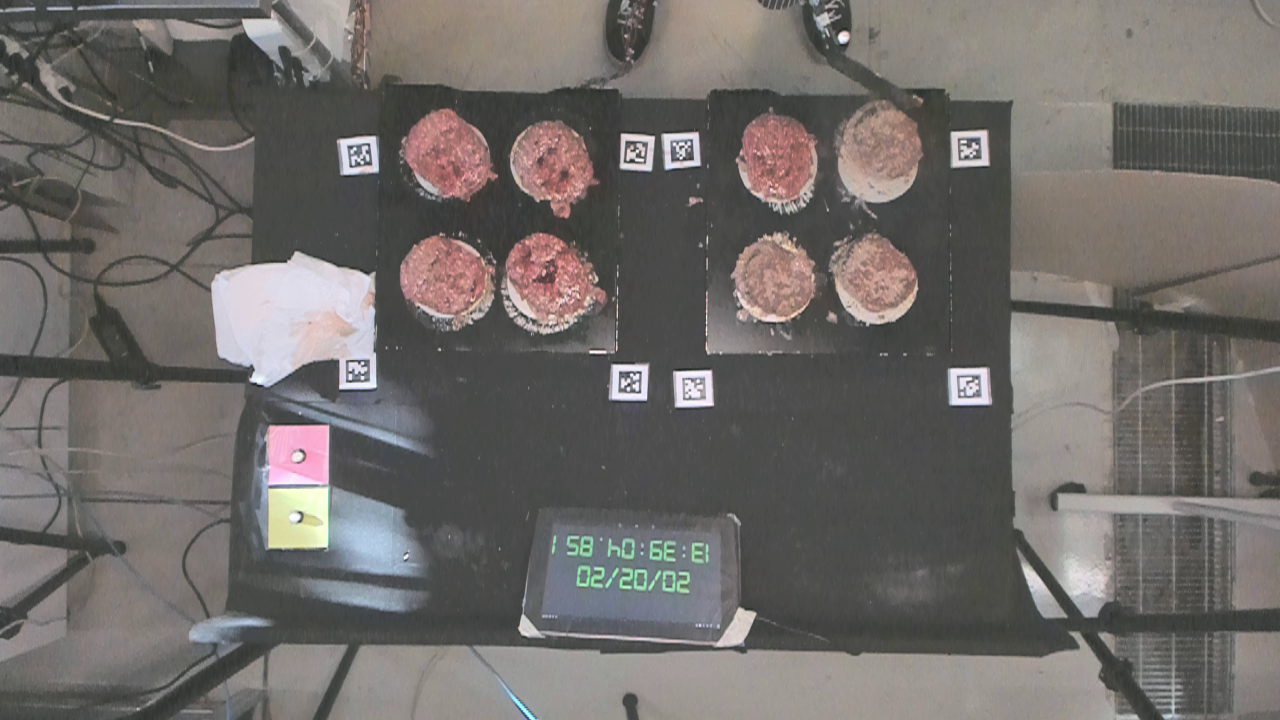hamburger: (501, 226, 592, 324), (400, 226, 488, 325), (840, 94, 924, 192), (738, 111, 824, 206), (729, 228, 814, 324), (400, 106, 488, 196), (833, 228, 920, 313), (512, 121, 592, 202)
marker: (266, 424, 332, 485)
